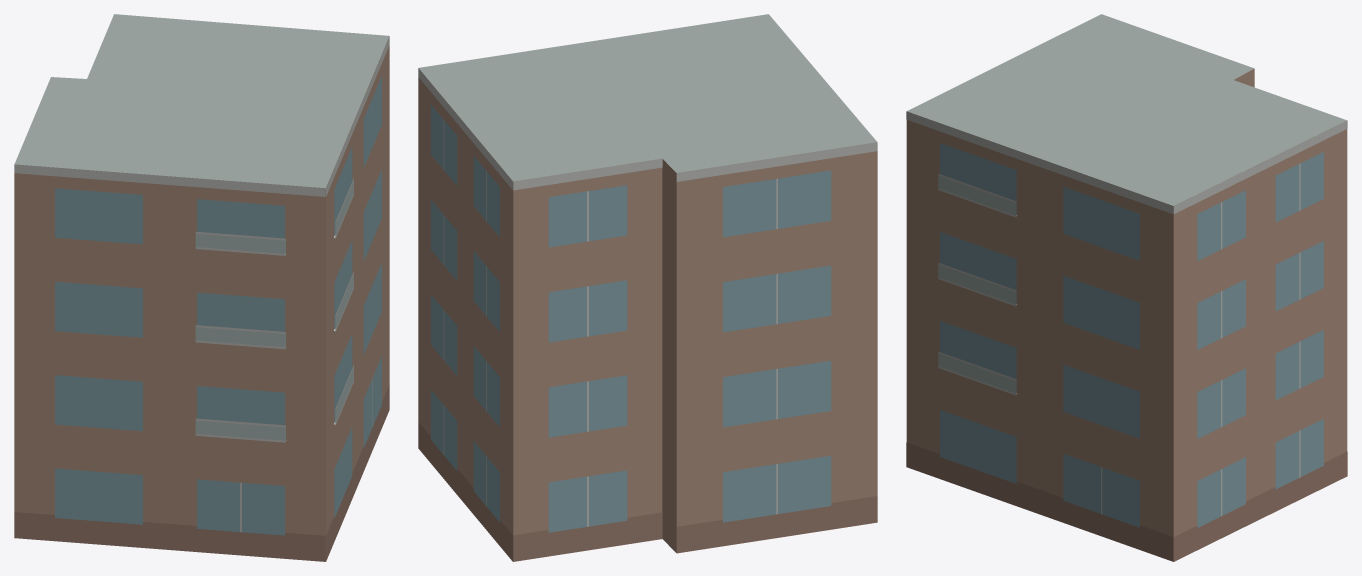
The model's file is survey-upis-32918743.glb.
3 renders of one model, left to right at view 1: azimuth 30°, elevation 25°; view 2: azimuth 150°, elevation 25°; view 3: azimuth 270°, elevation 25°, orthographic. The views are drawn at different scales.
Parts seen in each view (by area): view 1: survey-upis-32918743.tmp; view 2: survey-upis-32918743.tmp; view 3: survey-upis-32918743.tmp.
Part boxes in pixels (left/top/right/bottom): survey-upis-32918743.tmp: left=14, top=14, right=389, bottom=561; survey-upis-32918743.tmp: left=418, top=14, right=877, bottom=561; survey-upis-32918743.tmp: left=906, top=14, right=1347, bottom=561.
Size of the model in its own units: 12.04 by 10.4 by 11.69.
